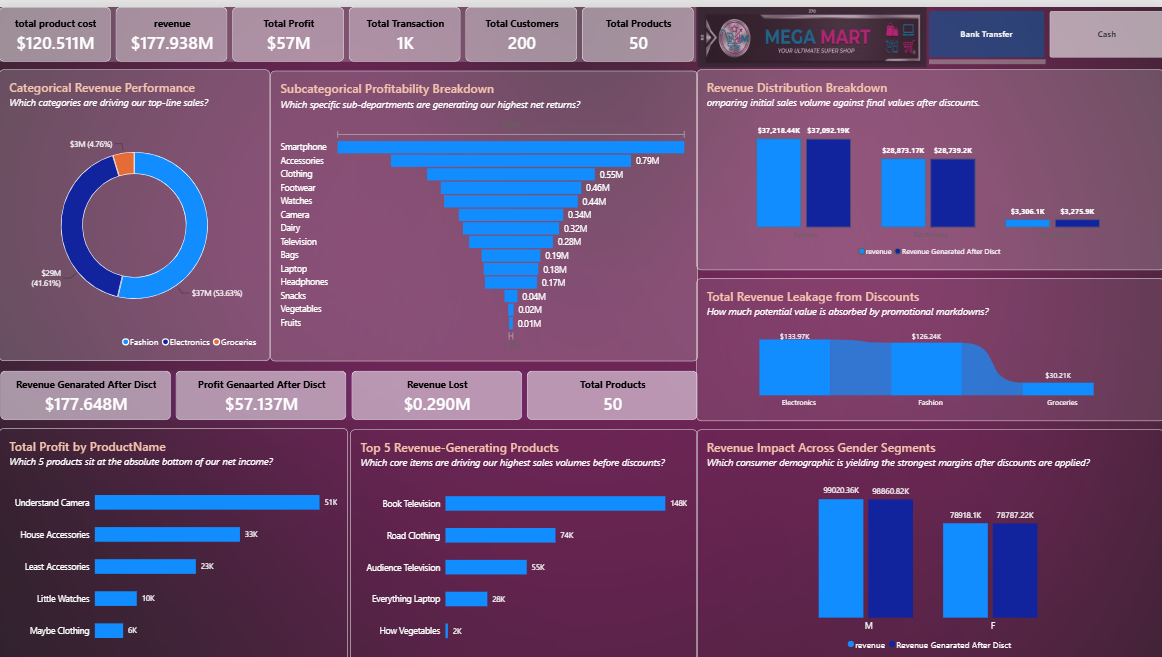

Layout of this report page (visuals, bound fields, positions):
{"tool":"powerbi","page":{"name":"Page 1","canvas":[1920,1080],"ordinal":0},"visuals":[{"type":"cardVisual","fields":{"Data":["Copy of retail_sales_dataset.total product cost","Copy of retail_sales_dataset.revenue","Copy of retail_sales_dataset.profit margin","Copy of retail_sales_dataset.transaction commited","Copy of retail_sales_dataset.total customer","Copy of retail_sales_dataset.Total products"]},"box":[0,0,1148,90],"z":0},{"type":"advancedSlicerVisual","fields":{"Values":["transaction.PaymentMethod"]},"box":[1532,6,388,90],"z":1000},{"type":"cardVisual","fields":{"Data":["Copy of retail_sales_dataset.after discount(revenue)","Copy of retail_sales_dataset.discounted  profit","Copy of retail_sales_dataset.discount revenue(lost)","Copy of retail_sales_dataset.Total Products"]},"box":[1.7,600,1148.3,81.7],"z":2000},{"type":"funnel","title":"Subcategorical Profitability Breakdown","fields":{"Y":["Copy of retail_sales_dataset.profit margin"],"Category":["product.SubCategory"]},"box":[446,104,704,478],"z":3000},{"type":"donutChart","title":"Categorical Revenue Performance","fields":{"Category":["product.Category"],"Y":["Copy of retail_sales_dataset.revenue"]},"box":[0,102,446,480],"z":4000},{"type":"ribbonChart","title":"Total Revenue Leakage from Discounts","fields":{"Category":["product.Category"],"Y":["Copy of retail_sales_dataset.discount revenue(lost)"]},"box":[1148.3,446.7,771.7,235],"z":5000},{"type":"clusteredColumnChart","title":"Revenue Distribution Breakdown","fields":{"Category":["product.Category"],"Y":["Copy of retail_sales_dataset.revenue","Copy of retail_sales_dataset.after discount(revenue)"]},"box":[1148.3,103.3,771.7,330],"z":6000},{"type":"clusteredBarChart","title":"Top 5 Revenue-Generating Products","fields":{"Category":["Top 5 Product Names Table.ProductName"],"Y":["Copy of retail_sales_dataset.revenue"]},"box":[578,696,572,384],"z":7000},{"type":"clusteredBarChart","title":"Total Profit by ProductName","fields":{"Y":["Copy of retail_sales_dataset.profit margin"],"Category":["Bottom 5 Profit Products.ProductName"]},"box":[0,694,574,386],"z":8000},{"type":"clusteredColumnChart","title":"Revenue Impact Across Gender Segments","fields":{"Category":["Copy of retail_sales_dataset.Gender"],"Y":["Copy of retail_sales_dataset.revenue","Copy of retail_sales_dataset.after discount(revenue)"]},"box":[1148.3,695,771.7,385],"z":9000},{"type":"image","box":[1150,0,376.7,99],"z":10000}]}

Visuals, with their boxes in screenshot pixels (x1, y1, x2, y2), scaled from the page's 1920x1080 canvas onto the 1162x657 screenshot:
cardVisual - Copy of retail_sales_dataset.total product cost x Copy of retail_sales_dataset.revenue: bbox(0, 0, 695, 55)
advancedSlicerVisual - transaction.PaymentMethod: bbox(927, 4, 1161, 58)
cardVisual - Copy of retail_sales_dataset.after discount(revenue) x Copy of retail_sales_dataset.discounted  profit: bbox(1, 365, 696, 415)
"Subcategorical Profitability Breakdown" funnel: bbox(270, 63, 696, 354)
"Categorical Revenue Performance" donutChart: bbox(0, 62, 270, 354)
"Total Revenue Leakage from Discounts" ribbonChart: bbox(695, 272, 1161, 415)
"Revenue Distribution Breakdown" clusteredColumnChart: bbox(695, 63, 1161, 264)
"Top 5 Revenue-Generating Products" clusteredBarChart: bbox(350, 423, 696, 656)
"Total Profit by ProductName" clusteredBarChart: bbox(0, 422, 347, 656)
"Revenue Impact Across Gender Segments" clusteredColumnChart: bbox(695, 423, 1161, 656)
image: bbox(696, 0, 924, 60)
